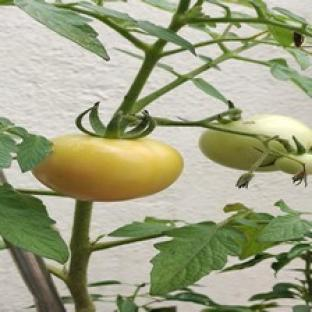Tomato: (33, 134, 183, 200), (221, 115, 311, 150), (276, 154, 311, 174)
